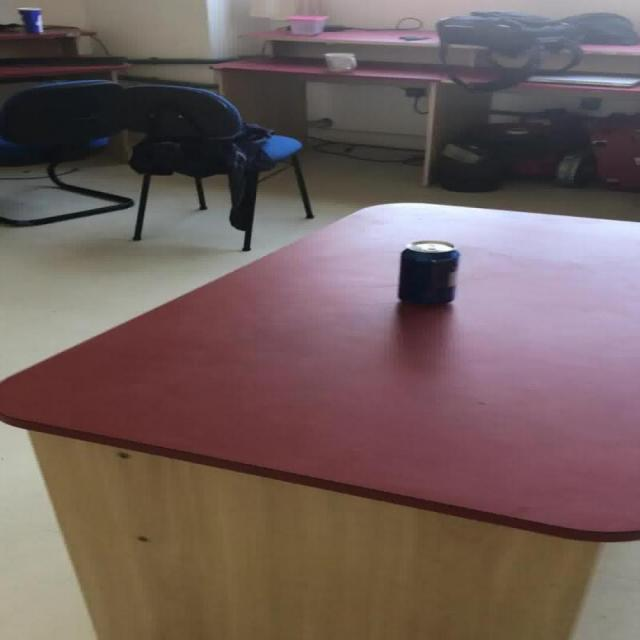Tonic: (396, 239, 460, 304), (14, 6, 43, 33)
